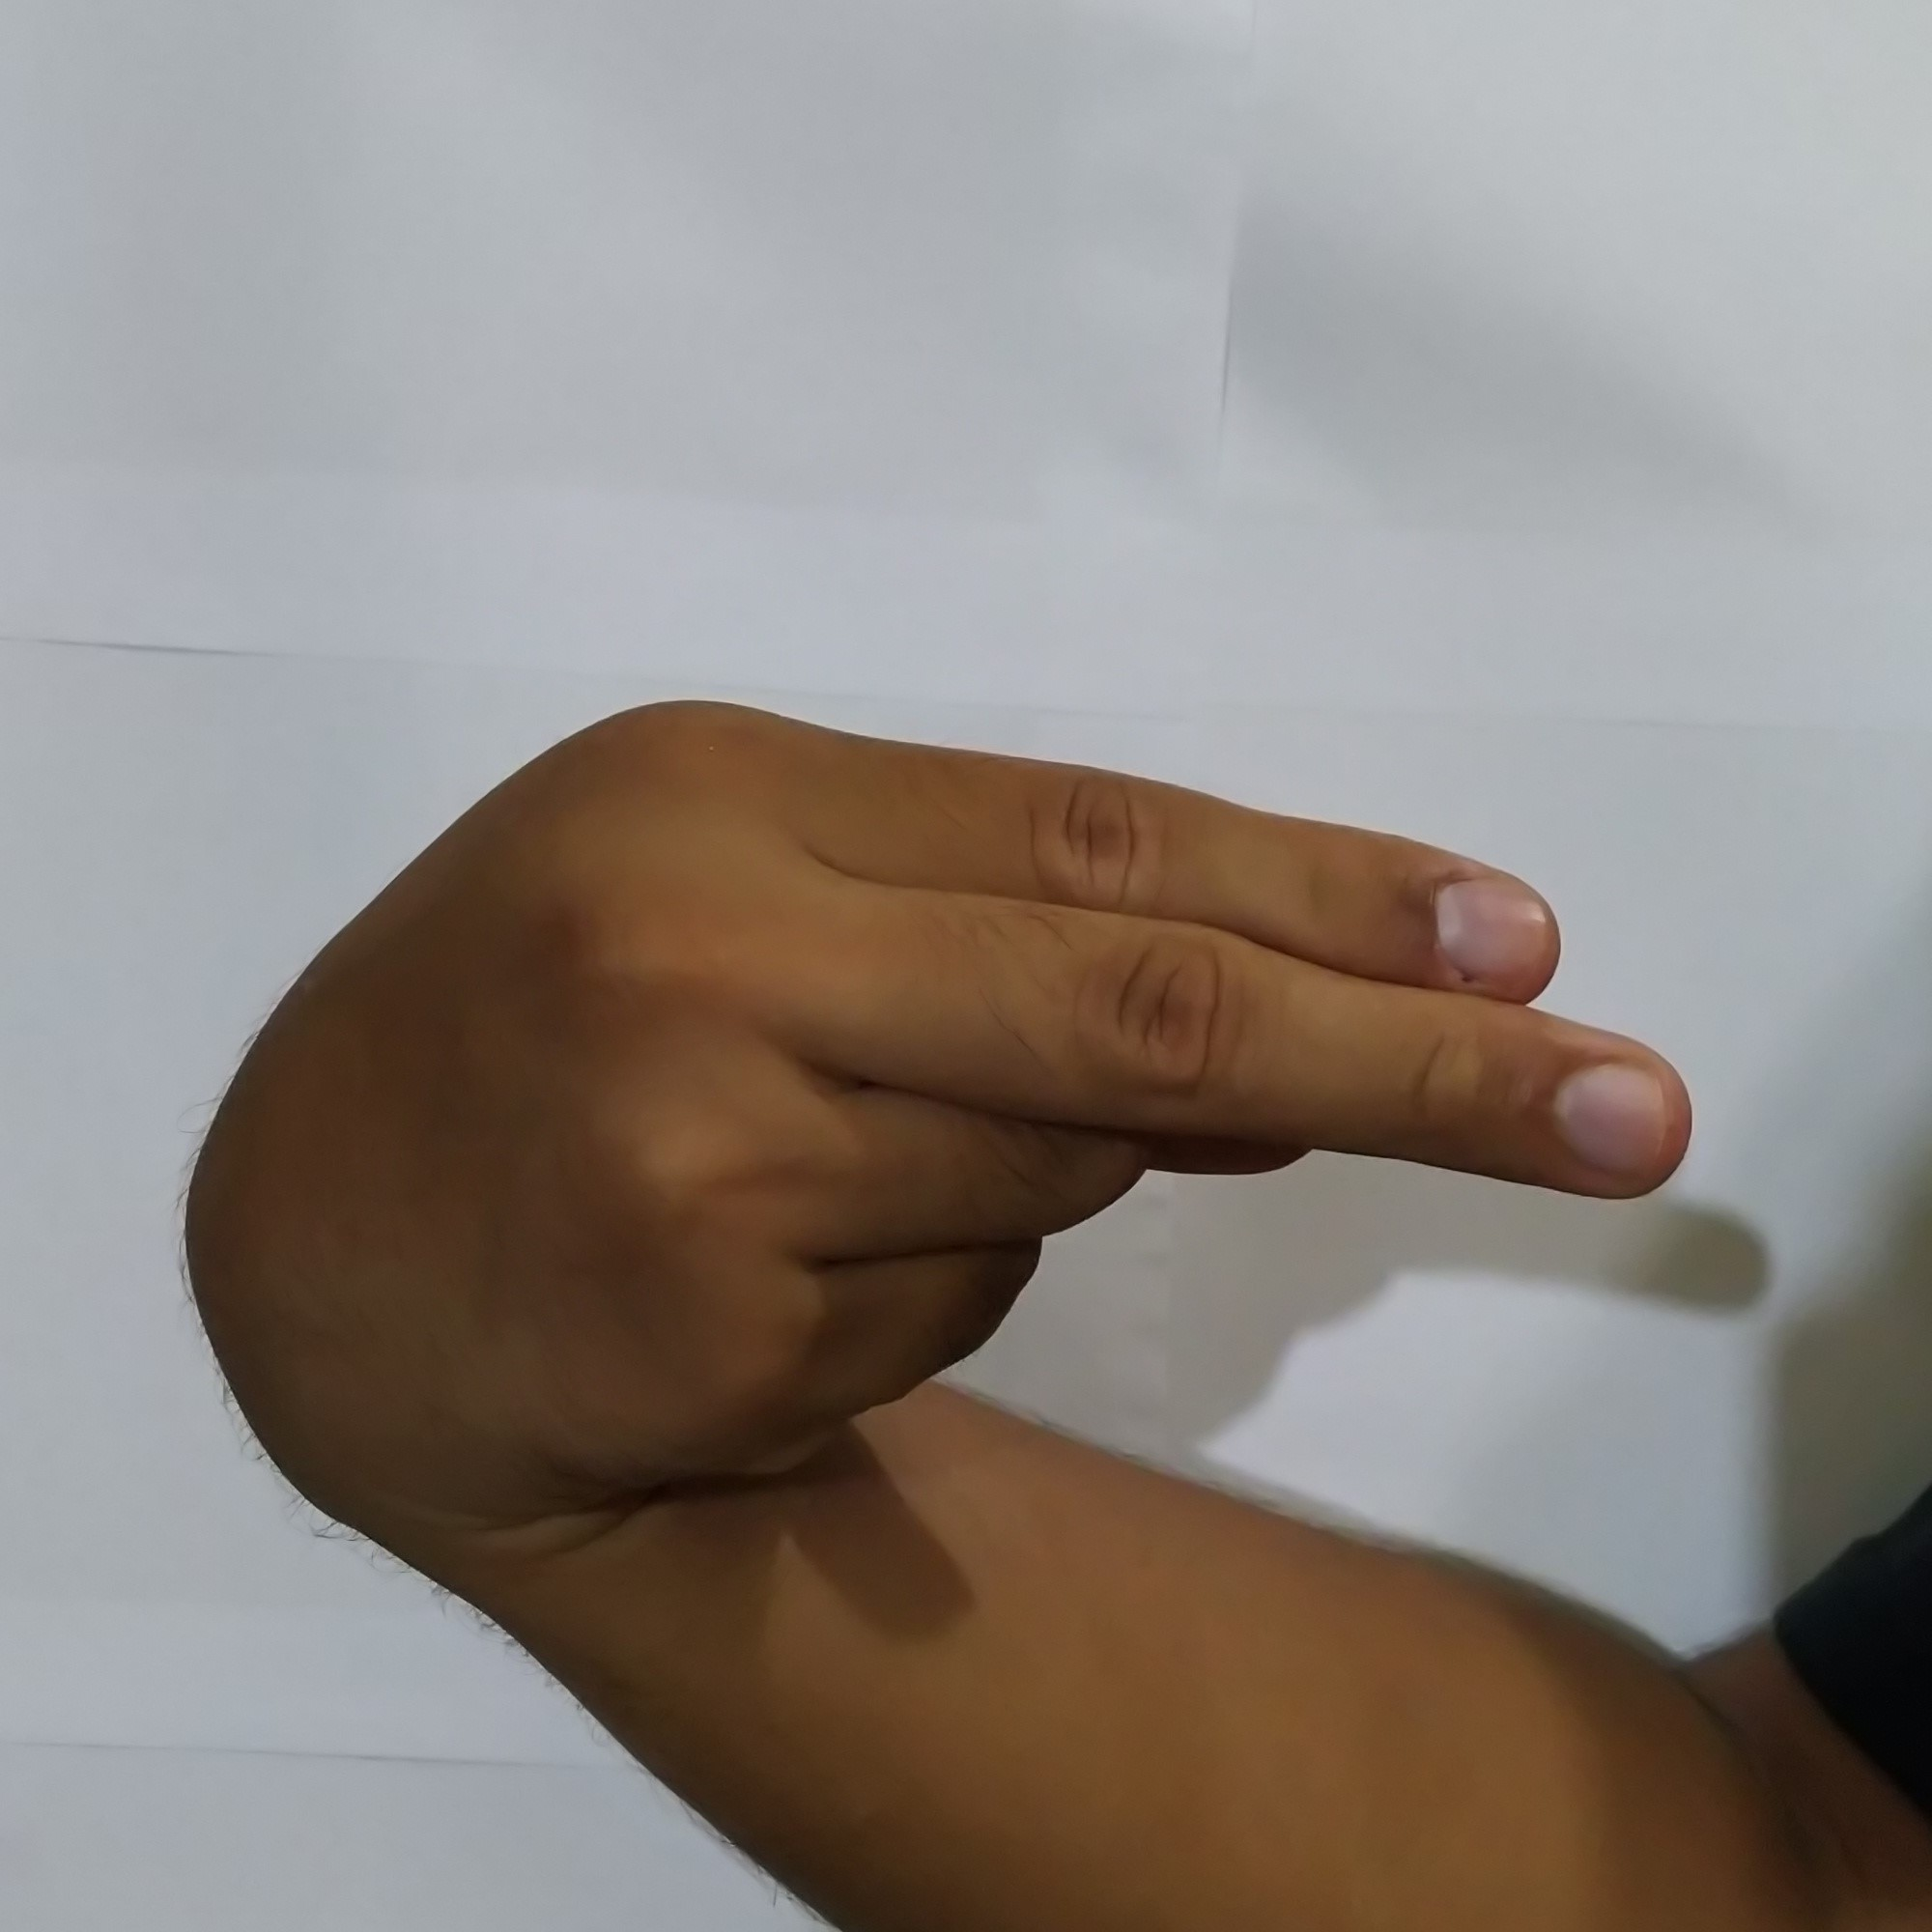H: (182, 669, 1714, 1520)
